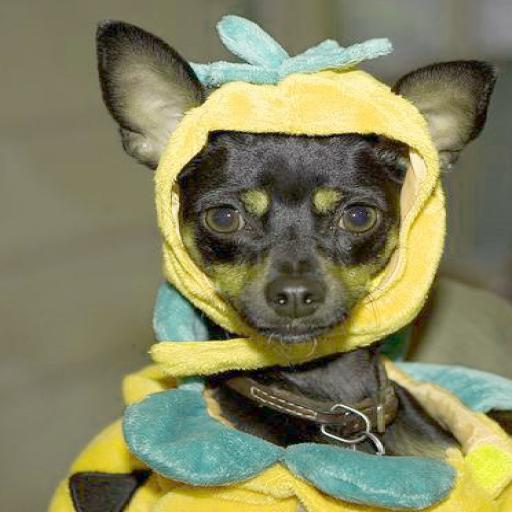dog_face: (100, 18, 475, 359)
